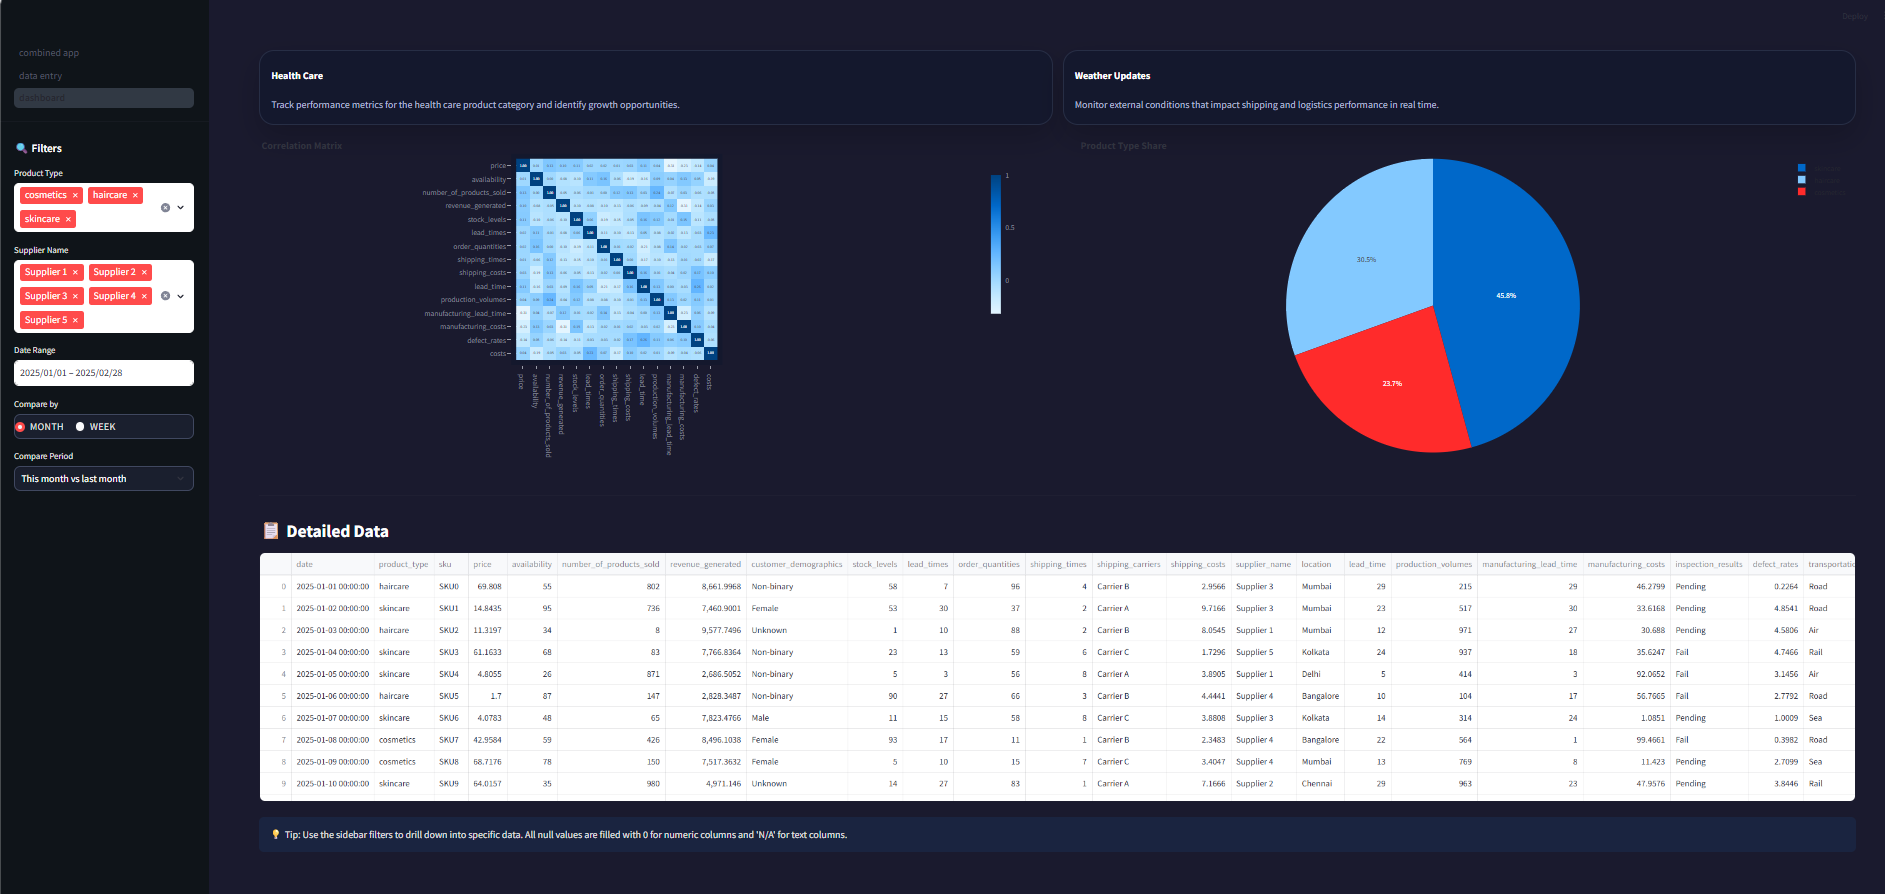

What the dashboard file says about the page in this screenshot:
{"tool":"powerbi","page":{"name":"Page 1","canvas":[1300,800],"ordinal":0},"visuals":[{"type":"shape","title":"🔍 Filters","box":[0,165.2,230.4,634.8],"z":0},{"type":"shape","box":[0,0,230,165.7],"z":1000},{"type":"textbox","box":[25.7,58.6,185.7,48.6],"z":2000},{"type":"textbox","box":[31.4,101.4,170,44.3],"z":3000},{"type":"shape","box":[98.6,24.3,34.3,31.4],"z":4000},{"type":"textbox","box":[0,182.6,217.4,79.7],"z":5000},{"type":"cardVisual","fields":{"Data":["supply_chain_data.Profit","Sum(supply_chain_data.Revenue generated)","Sum(supply_chain_data.Number of products sold)","Sum(supply_chain_data.Defect rates)","Avg(supply_chain_data.Price)","Sum(supply_chain_data.Shipping costs)"]},"box":[216.7,0,785,290],"z":6000},{"type":"image","box":[422.9,35.7,35.7,40],"z":7000},{"type":"image","box":[672.9,32.9,38.6,35.7],"z":8000},{"type":"image","box":[928.6,30,41.4,42.9],"z":9000},{"type":"image","box":[408.6,165.7,50,34.3],"z":10000},{"type":"image","box":[665.7,160,52.9,45.7],"z":11000},{"type":"image","box":[908.6,160,82.9,45.7],"z":12000},{"type":"shape","box":[229.9,272.7,1070.1,527.3],"z":13000},{"type":"treemap","fields":{"Values":["Sum(supply_chain_data.Revenue generated)"],"Group":["supply_chain_data.Supplier name"]},"box":[794.8,323.4,484.4,196.1],"z":14000},{"type":"shape","title":"📊 Revenue by Product","box":[242.9,272.7,522.1,268.8],"z":15000},{"type":"shape","title":"🌳 Revenue by Supplier ","box":[773.3,270,525,260],"z":16000},{"type":"clusteredColumnChart","fields":{"Y":["Sum(supply_chain_data.Revenue generated)"],"Series":["supply_chain_data.Product type"],"Category":["supply_chain_data.Location"]},"box":[251.7,306.7,511.7,223.3],"z":17000},{"type":"shape","title":"📊 Revenue by Product","box":[244.2,536.4,522.1,258.4],"z":18000},{"type":"shape","title":" 📦 Stock Levels by Product","box":[777.9,541.6,522.1,258.4],"z":19000},{"type":"clusteredBarChart","fields":{"Category":["supply_chain_data.Product type"],"Y":["Sum(supply_chain_data.Stock levels)"]},"box":[794.3,554.3,475.7,232.9],"z":20000},{"type":"stackedAreaChart","fields":{"Category":["supply_chain_data.Location"],"Series":["supply_chain_data.Product type"],"Y":["Sum(supply_chain_data.Revenue generated)"]},"box":[251.9,564.9,502,222],"z":21000},{"type":"shape","title":"🚚 Lead Time by Transport","box":[991.4,8.6,297.1,270],"z":22000},{"type":"donutChart","fields":{"Category":["supply_chain_data.Transportation modes"],"Y":["Sum(supply_chain_data.Lead time)"]},"box":[1001.4,12.9,275.7,265.7],"z":23000},{"type":"slicer","fields":{"Values":["supply_chain_data.Product type"]},"box":[21.4,262.9,188.6,82.9],"z":24000},{"type":"slicer","fields":{"Values":["supply_chain_data.Location"]},"box":[25.7,362.9,174.3,88.6],"z":24001},{"type":"slicer","fields":{"Values":["supply_chain_data.Supplier name"]},"box":[21.4,474.3,180,88.6],"z":24002},{"type":"slicer","fields":{"Values":["supply_chain_data.Transportation modes"]},"box":[21.4,594.3,184.3,105.7],"z":24003}]}

Visuals, with their boxes on the page's 1300x800 design canvas (x1, y1, x2, y2). These are canvas units, not pixel positions in the 1885x894 screenshot, which may show the page scaled, cropped or inside an application window:
"🔍 Filters" shape: region(0, 165, 230, 800)
shape: region(0, 0, 230, 166)
textbox: region(26, 59, 211, 107)
textbox: region(31, 101, 201, 146)
shape: region(99, 24, 133, 56)
textbox: region(0, 183, 217, 262)
cardVisual - supply_chain_data.Profit x Sum(supply_chain_data.Revenue generated): region(217, 0, 1002, 290)
image: region(423, 36, 459, 76)
image: region(673, 33, 712, 69)
image: region(929, 30, 970, 73)
image: region(409, 166, 459, 200)
image: region(666, 160, 719, 206)
image: region(909, 160, 992, 206)
shape: region(230, 273, 1300, 800)
treemap - Sum(supply_chain_data.Revenue generated) x supply_chain_data.Supplier name: region(795, 323, 1279, 520)
"📊 Revenue by Product" shape: region(243, 273, 765, 542)
"🌳 Revenue by Supplier " shape: region(773, 270, 1298, 530)
clusteredColumnChart - Sum(supply_chain_data.Revenue generated) x supply_chain_data.Product type: region(252, 307, 763, 530)
"📊 Revenue by Product" shape: region(244, 536, 766, 795)
" 📦 Stock Levels by Product" shape: region(778, 542, 1300, 800)
clusteredBarChart - supply_chain_data.Product type x Sum(supply_chain_data.Stock levels): region(794, 554, 1270, 787)
stackedAreaChart - supply_chain_data.Location x supply_chain_data.Product type: region(252, 565, 754, 787)
"🚚 Lead Time by Transport" shape: region(991, 9, 1288, 279)
donutChart - supply_chain_data.Transportation modes x Sum(supply_chain_data.Lead time): region(1001, 13, 1277, 279)
slicer - supply_chain_data.Product type: region(21, 263, 210, 346)
slicer - supply_chain_data.Location: region(26, 363, 200, 452)
slicer - supply_chain_data.Supplier name: region(21, 474, 201, 563)
slicer - supply_chain_data.Transportation modes: region(21, 594, 206, 700)
